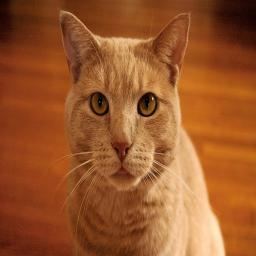catnose: (111, 136, 133, 160)
